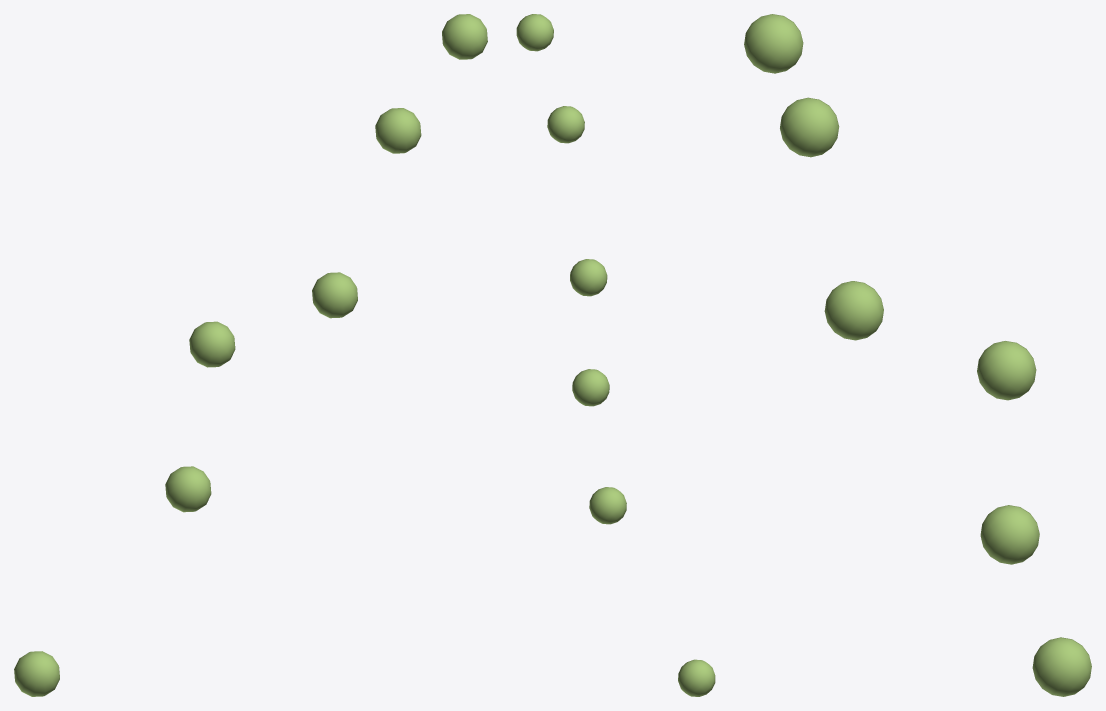
File: posterior-axillary-nodes-r.glb
3 renders of one model, left to right at view 1: azimuth 30°, elevation 25°; view 2: azimuth 150°, elevation 25°; view 3: azimuth 270°, elevation 25°, orthographic. The views are drawn at different scales.
Parts seen in each view (by area): view 1: Posterior axillary nodes.r; view 2: Posterior axillary nodes.r; view 3: Posterior axillary nodes.r.
Boxes of the visible parts, bbox=[...] form: Posterior axillary nodes.r: bbox=[14, 14, 487, 696]; Posterior axillary nodes.r: bbox=[516, 14, 715, 696]; Posterior axillary nodes.r: bbox=[744, 14, 1091, 696].
Bounding box in the file's own units: 0.0225 × 0.0415 × 0.015.
